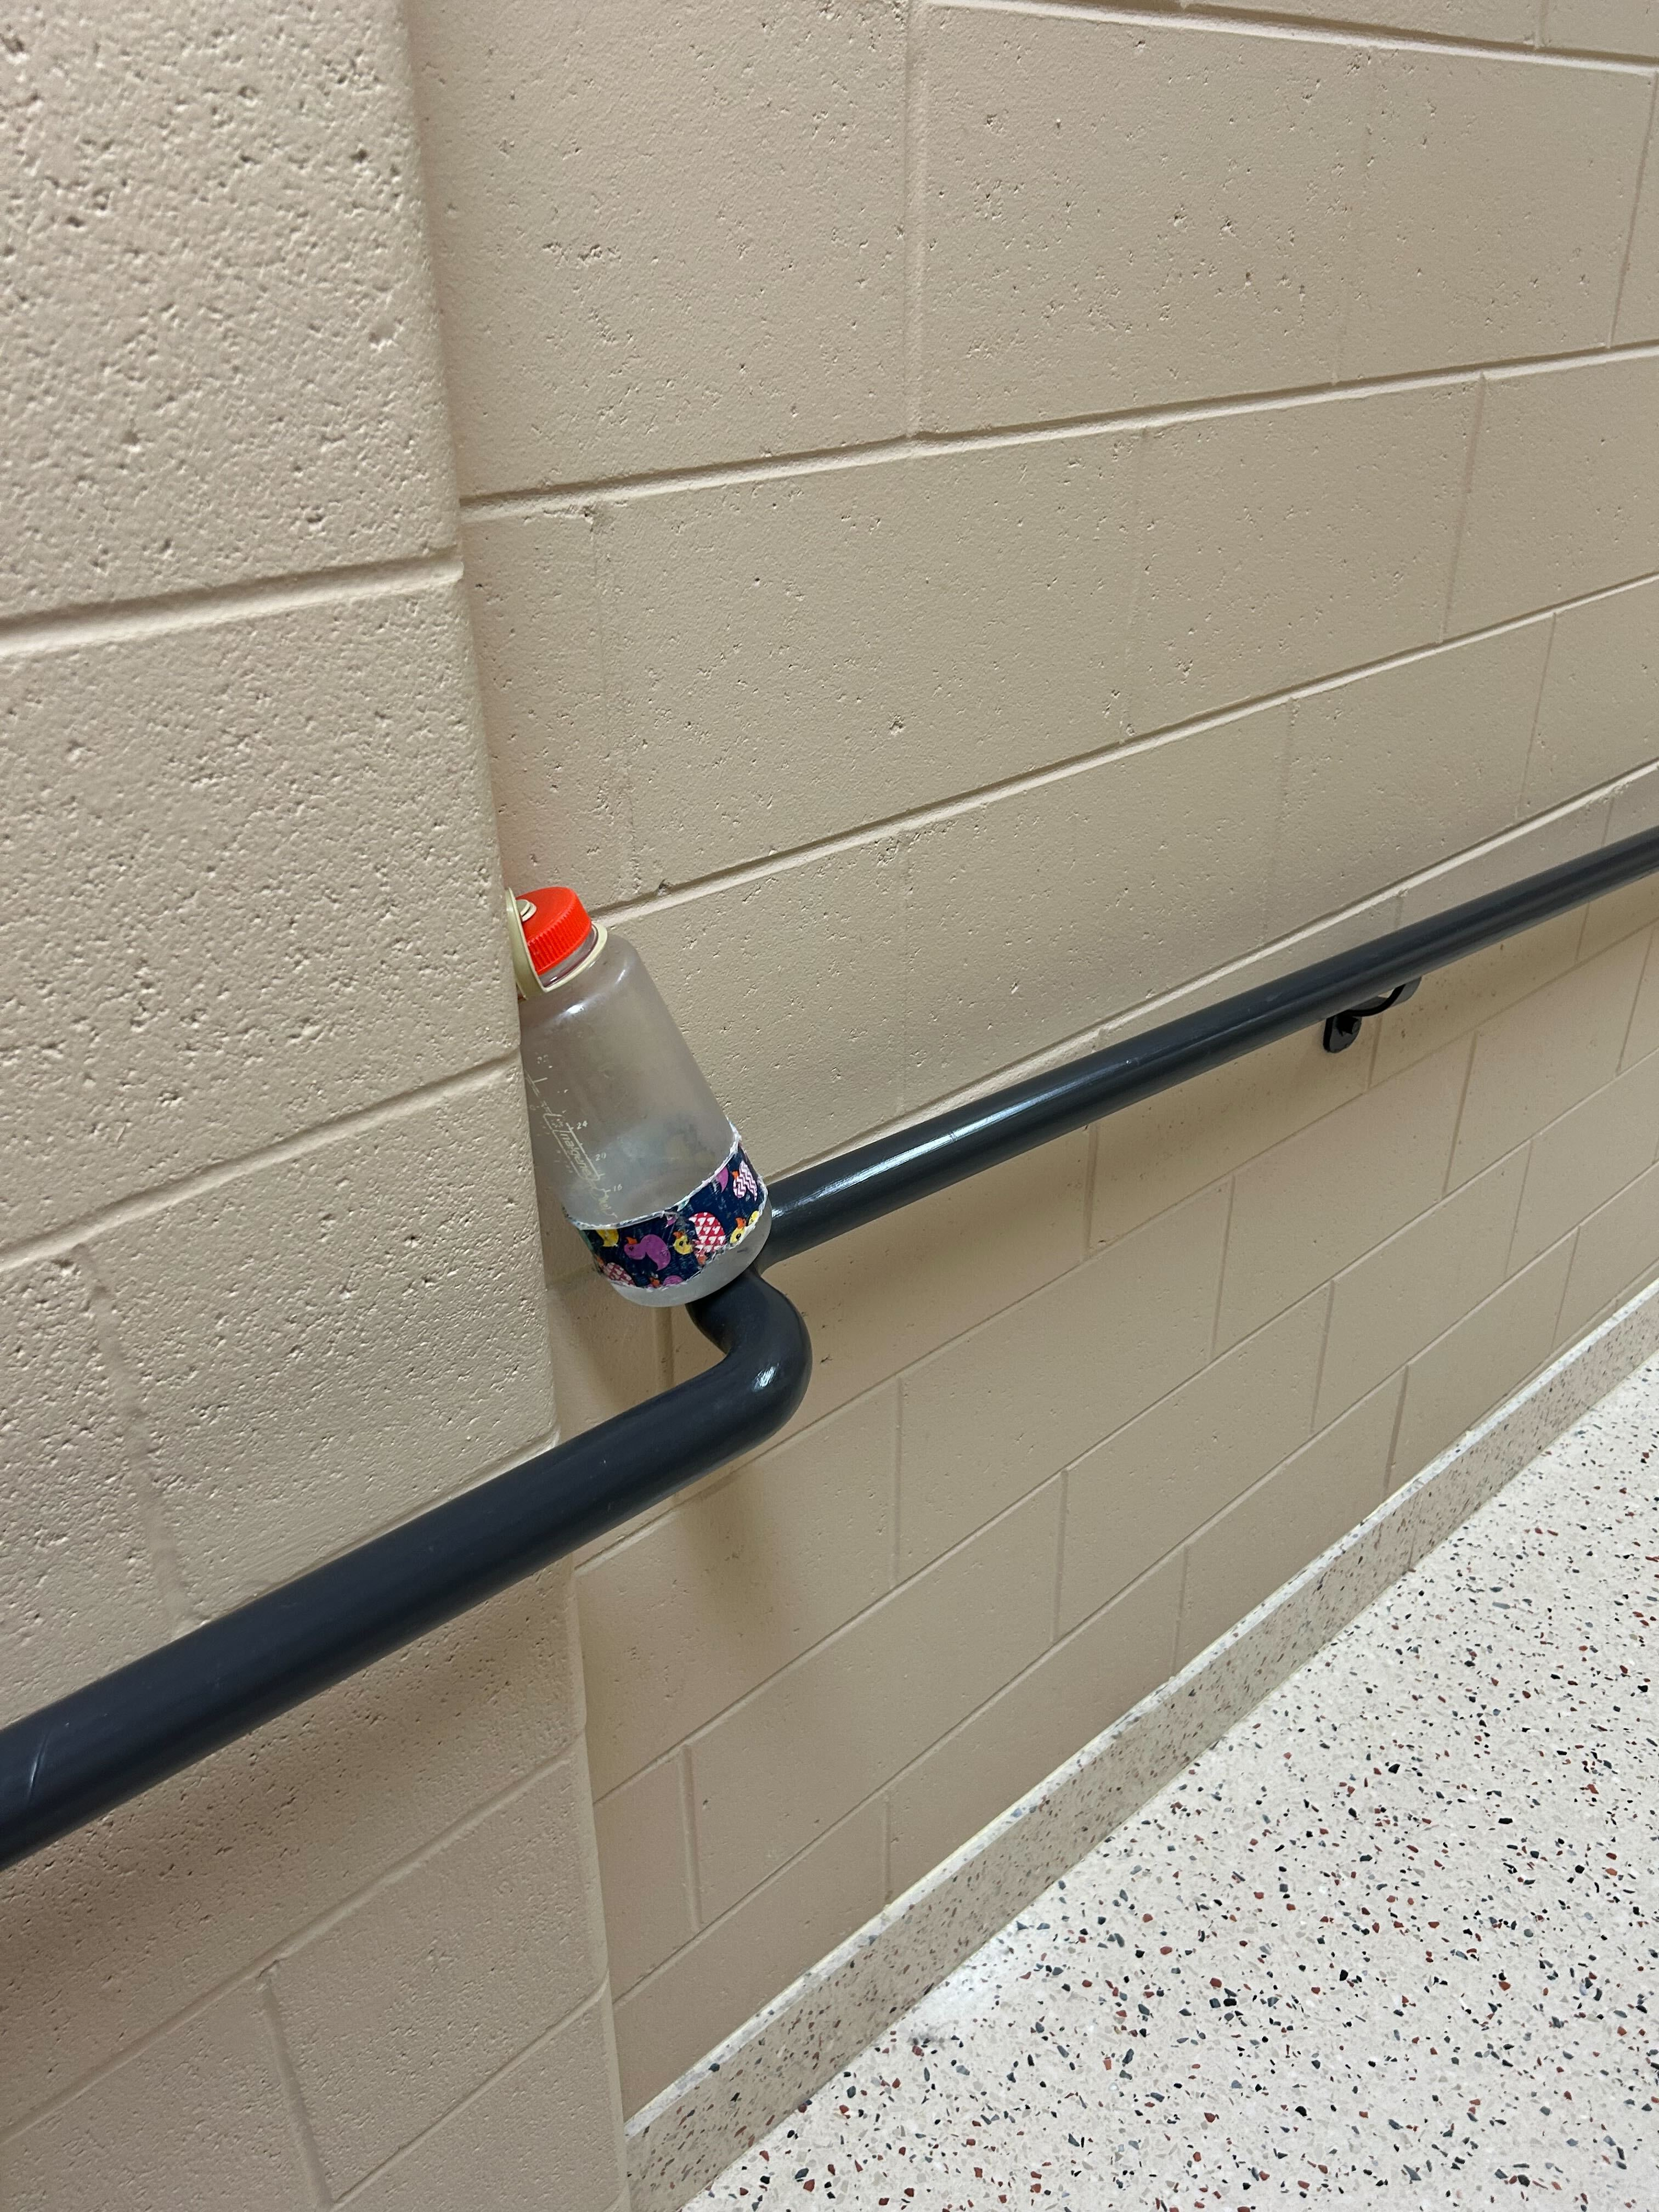bottle: (502, 876, 775, 1317)
